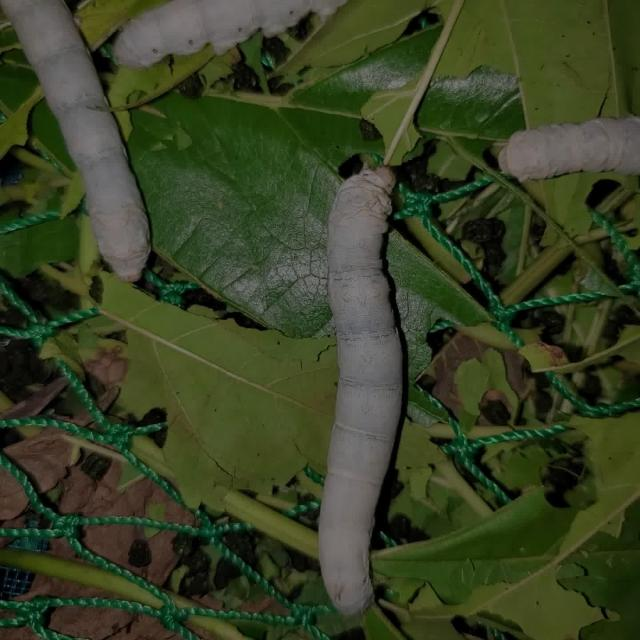Healthy: (321, 142, 407, 626)
